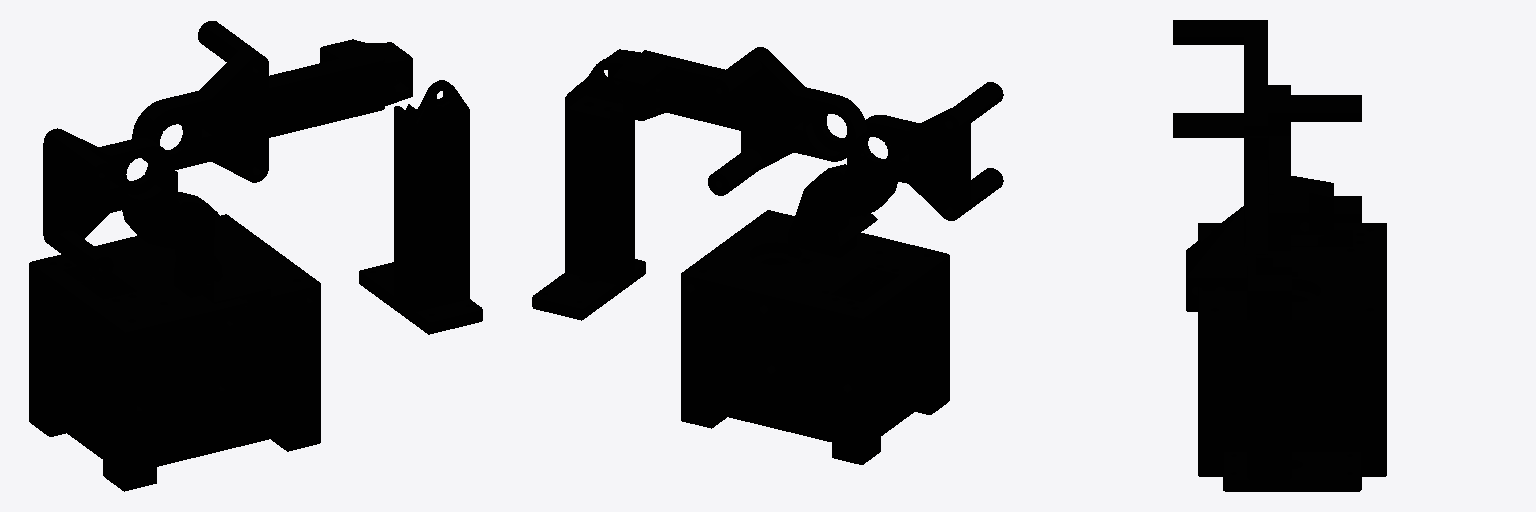
The robot description file, URDF, robot "visual":
<?xml version="1.0"?>

<robot name="visual">
  <link name="base_link">
 <origin xyz="0 0 0 " rpy=" 0 0 0"/>
    <visual>
      <geometry>
        <mesh filename="package://robotarm/3001Arm/ConjoinedBase.dae"/>
      </geometry>
      <material name="blue"/>
    </visual>
  </link>

  <link name="Link2">
    <origin xyz="0 -0.06 .159 " rpy=" 0 0 3.14159"/>
    <visual>
      <geometry>
        <mesh filename="package://robotarm/3001Arm/Link2.dae"/>
      </geometry>
      <material name="blue"/>
    </visual>
  </link>
  <joint name="BaseToLink2" type="revolute">
    <origin xyz="0 -0.06 .159" rpy=" 0 0 3.14159"/>
    <parent link="base_link"/>
    <child link="Link2"/>
    <limit effort="1.0" lower="0" upper="6" velocity="1.0"/>
    <axis xyz = "0 0 1"/>
  </joint>

  <link name="Link3">
    <origin xyz="0.05 0 .01 " rpy=" 0 0 0"/> 
     <visual>
      <geometry>
        <mesh filename="package://robotarm/3001Arm/Link3.dae"/>
      </geometry>
      <material name="blue"/>
    </visual>
  </link>
  <joint name="Link2ToLink3" type="revolute">
    <origin xyz="0.05 0 .01" rpy=" 0 0 0"/>
    <parent link="Link2"/>
    <child link="Link3"/>
    <limit effort="1.0" lower="0" upper="6" velocity="1.0"/>
    <axis xyz = "0 1 0"/>
  </joint>


  <link name="Link4">
    <origin xyz="-0.17 -0.025 0 " rpy=" 0 0 0"/>
     <visual>
      <geometry>
        <mesh filename="package://robotarm/3001Arm/Link4.dae"/>
      </geometry>
      <material name="blue"/>
    </visual>
  </link> 
  <joint name="Link3ToLink4" type="revolute">
    <origin xyz="-0.17 -0.025 0" rpy=" 0 0 0"/>
    <parent link="Link3"/>
    <child link="Link4"/>
    <limit effort="1.0" lower="0" upper="6" velocity="1.0"/>
    <axis xyz = "0 1 0"/>
  </joint>
</robot>

--- What the picture shows (computed from the rendered views, not written in the file) ---
The picture shows the robot from 3 angles, left to right: view 1: azimuth 30°, elevation 25°; view 2: azimuth 150°, elevation 25°; view 3: azimuth 270°, elevation 25°; orthographic projection.
Model visual with 4 links and 3 joints (3 revolute), rooted at base_link, posed all joints at 0.
Links seen in each view (by area): view 1: base_link, Link3, Link2, Link4; view 2: base_link, Link3, Link2, Link4; view 3: base_link, Link4, Link2, Link3.
Boxes of the visible links, left/top/right/bottom form: base_link: left=29, top=214, right=320, bottom=491; Link3: left=132, top=21, right=412, bottom=182; Link2: left=43, top=128, right=270, bottom=327; Link4: left=359, top=80, right=482, bottom=334; base_link: left=681, top=210, right=949, bottom=464; Link3: left=599, top=47, right=866, bottom=195; Link2: left=788, top=82, right=1003, bottom=258; Link4: left=532, top=59, right=645, bottom=320; base_link: left=1198, top=223, right=1386, bottom=476; Link4: left=1223, top=243, right=1361, bottom=491; Link2: left=1173, top=20, right=1267, bottom=311; Link3: left=1268, top=85, right=1361, bottom=250.
Bounding box of the posed robot: 0.2407 × 0.1076 × 0.2039 m (x, y, z).
Meshes: 4 distinct files referenced, 4 mesh visuals loaded (4 Collada DAE).
